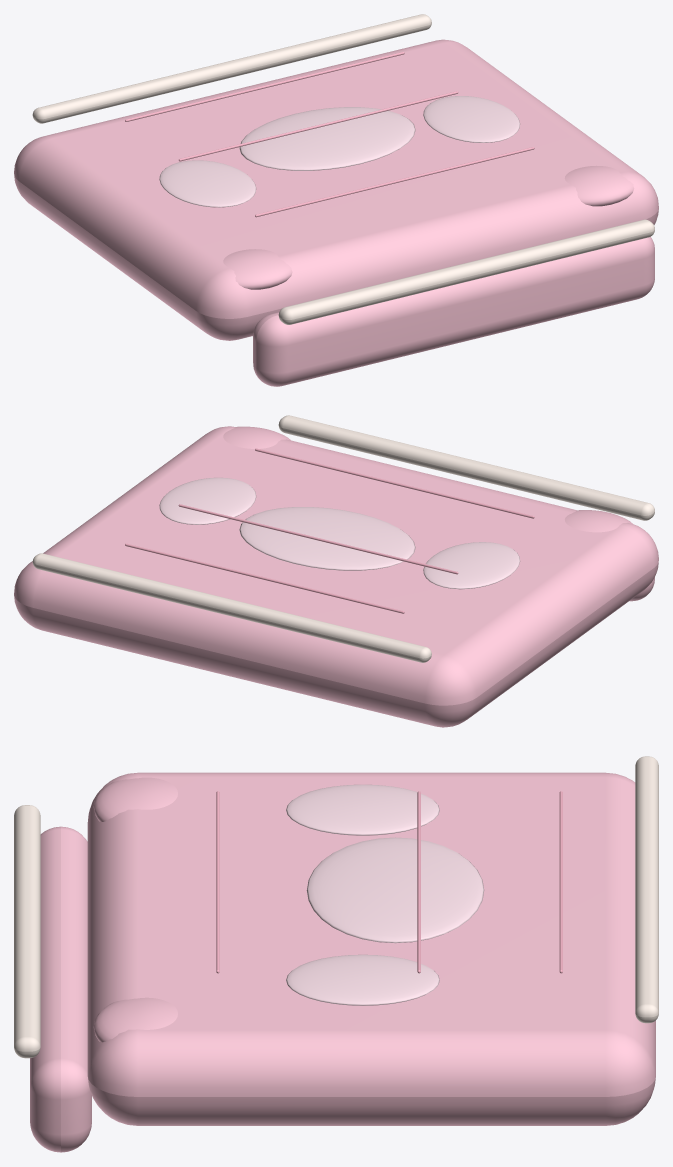
The model's file is 目标图床品软雕.fbx.
The picture shows the model from 3 angles, top to bottom: view 1: azimuth 30°, elevation 25°; view 2: azimuth 150°, elevation 25°; view 3: azimuth 270°, elevation 25°; orthographic projection. The views are drawn at different scales.
Visible parts, largest first — view 1: 目标图床品软雕_v342_一体厚粉软被主体, 目标图床品软雕_v342_床尾自然下垂布, 目标图床品软雕_v342_中部低鼓面, 目标图床品软雕_v342_床尾奶油窄滚边, 目标图床品软雕_v342_上缘奶油窄滚边, 目标图床品软雕_v342_左侧低鼓面, 目标图床品软雕_v342_右侧低鼓面, 目标图床品软雕_v342_左前柔圆被角, 目标图床品软雕_v342_右前柔圆被角, 目标图床品软雕_v342_低对比横向绗缝.001, 目标图床品软雕_v342_低对比横向绗缝, 目标图床品软雕_v342_低对比横向绗缝.002; view 2: 目标图床品软雕_v342_一体厚粉软被主体, 目标图床品软雕_v342_中部低鼓面, 目标图床品软雕_v342_床尾奶油窄滚边, 目标图床品软雕_v342_上缘奶油窄滚边, 目标图床品软雕_v342_左侧低鼓面, 目标图床品软雕_v342_右侧低鼓面, 目标图床品软雕_v342_右前柔圆被角, 目标图床品软雕_v342_左前柔圆被角, 目标图床品软雕_v342_低对比横向绗缝.002, 目标图床品软雕_v342_低对比横向绗缝.001, 目标图床品软雕_v342_低对比横向绗缝; view 3: 目标图床品软雕_v342_一体厚粉软被主体, 目标图床品软雕_v342_床尾自然下垂布, 目标图床品软雕_v342_中部低鼓面, 目标图床品软雕_v342_床尾奶油窄滚边, 目标图床品软雕_v342_上缘奶油窄滚边, 目标图床品软雕_v342_右侧低鼓面, 目标图床品软雕_v342_左侧低鼓面, 目标图床品软雕_v342_右前柔圆被角, 目标图床品软雕_v342_左前柔圆被角, 目标图床品软雕_v342_低对比横向绗缝.001, 目标图床品软雕_v342_低对比横向绗缝.002, 目标图床品软雕_v342_低对比横向绗缝.
Boxes of the visible parts, x1,y1,x2,y2 form: 目标图床品软雕_v342_一体厚粉软被主体: (14,39,658,340); 目标图床品软雕_v342_床尾自然下垂布: (253,236,654,386); 目标图床品软雕_v342_中部低鼓面: (239,107,415,170); 目标图床品软雕_v342_床尾奶油窄滚边: (278,219,654,324); 目标图床品软雕_v342_上缘奶油窄滚边: (32,14,431,123); 目标图床品软雕_v342_左侧低鼓面: (159,160,256,207); 目标图床品软雕_v342_右侧低鼓面: (423,96,520,142); 目标图床品软雕_v342_左前柔圆被角: (223,249,292,289); 目标图床品软雕_v342_右前柔圆被角: (564,165,634,206); 目标图床品软雕_v342_低对比横向绗缝.001: (178,91,458,161); 目标图床品软雕_v342_低对比横向绗缝: (255,147,534,217); 目标图床品软雕_v342_低对比横向绗缝.002: (125,52,404,121); 目标图床品软雕_v342_一体厚粉软被主体: (14,426,658,727); 目标图床品软雕_v342_中部低鼓面: (239,507,415,570); 目标图床品软雕_v342_床尾奶油窄滚边: (278,415,654,520); 目标图床品软雕_v342_上缘奶油窄滚边: (32,553,431,662); 目标图床品软雕_v342_左侧低鼓面: (423,542,520,589); 目标图床品软雕_v342_右侧低鼓面: (159,477,256,524); 目标图床品软雕_v342_右前柔圆被角: (223,426,290,448); 目标图床品软雕_v342_左前柔圆被角: (564,510,632,532); 目标图床品软雕_v342_低对比横向绗缝.002: (125,543,404,613); 目标图床品软雕_v342_低对比横向绗缝.001: (178,504,458,574); 目标图床品软雕_v342_低对比横向绗缝: (255,448,534,518); 目标图床品软雕_v342_一体厚粉软被主体: (87,772,655,1125); 目标图床品软雕_v342_床尾自然下垂布: (30,826,91,1152); 目标图床品软雕_v342_中部低鼓面: (306,837,484,943); 目标图床品软雕_v342_床尾奶油窄滚边: (14,805,40,1058); 目标图床品软雕_v342_上缘奶油窄滚边: (635,756,658,1023); 目标图床品软雕_v342_右侧低鼓面: (286,954,439,1005); 目标图床品软雕_v342_左侧低鼓面: (286,784,439,835); 目标图床品软雕_v342_右前柔圆被角: (93,997,177,1042); 目标图床品软雕_v342_左前柔圆被角: (93,777,177,821); 目标图床品软雕_v342_低对比横向绗缝.001: (417,791,420,973); 目标图床品软雕_v342_低对比横向绗缝.002: (559,791,562,973); 目标图床品软雕_v342_低对比横向绗缝: (216,791,219,973).
Size of the model in its own units: 118 by 28.8 by 109.
